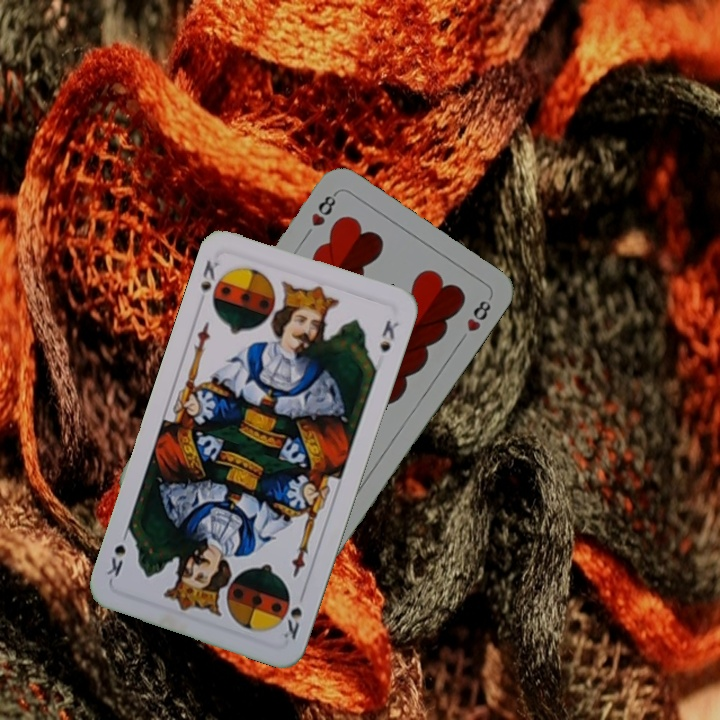H8: (307, 188, 339, 229)
SK: (275, 586, 308, 643), (196, 256, 222, 295)
